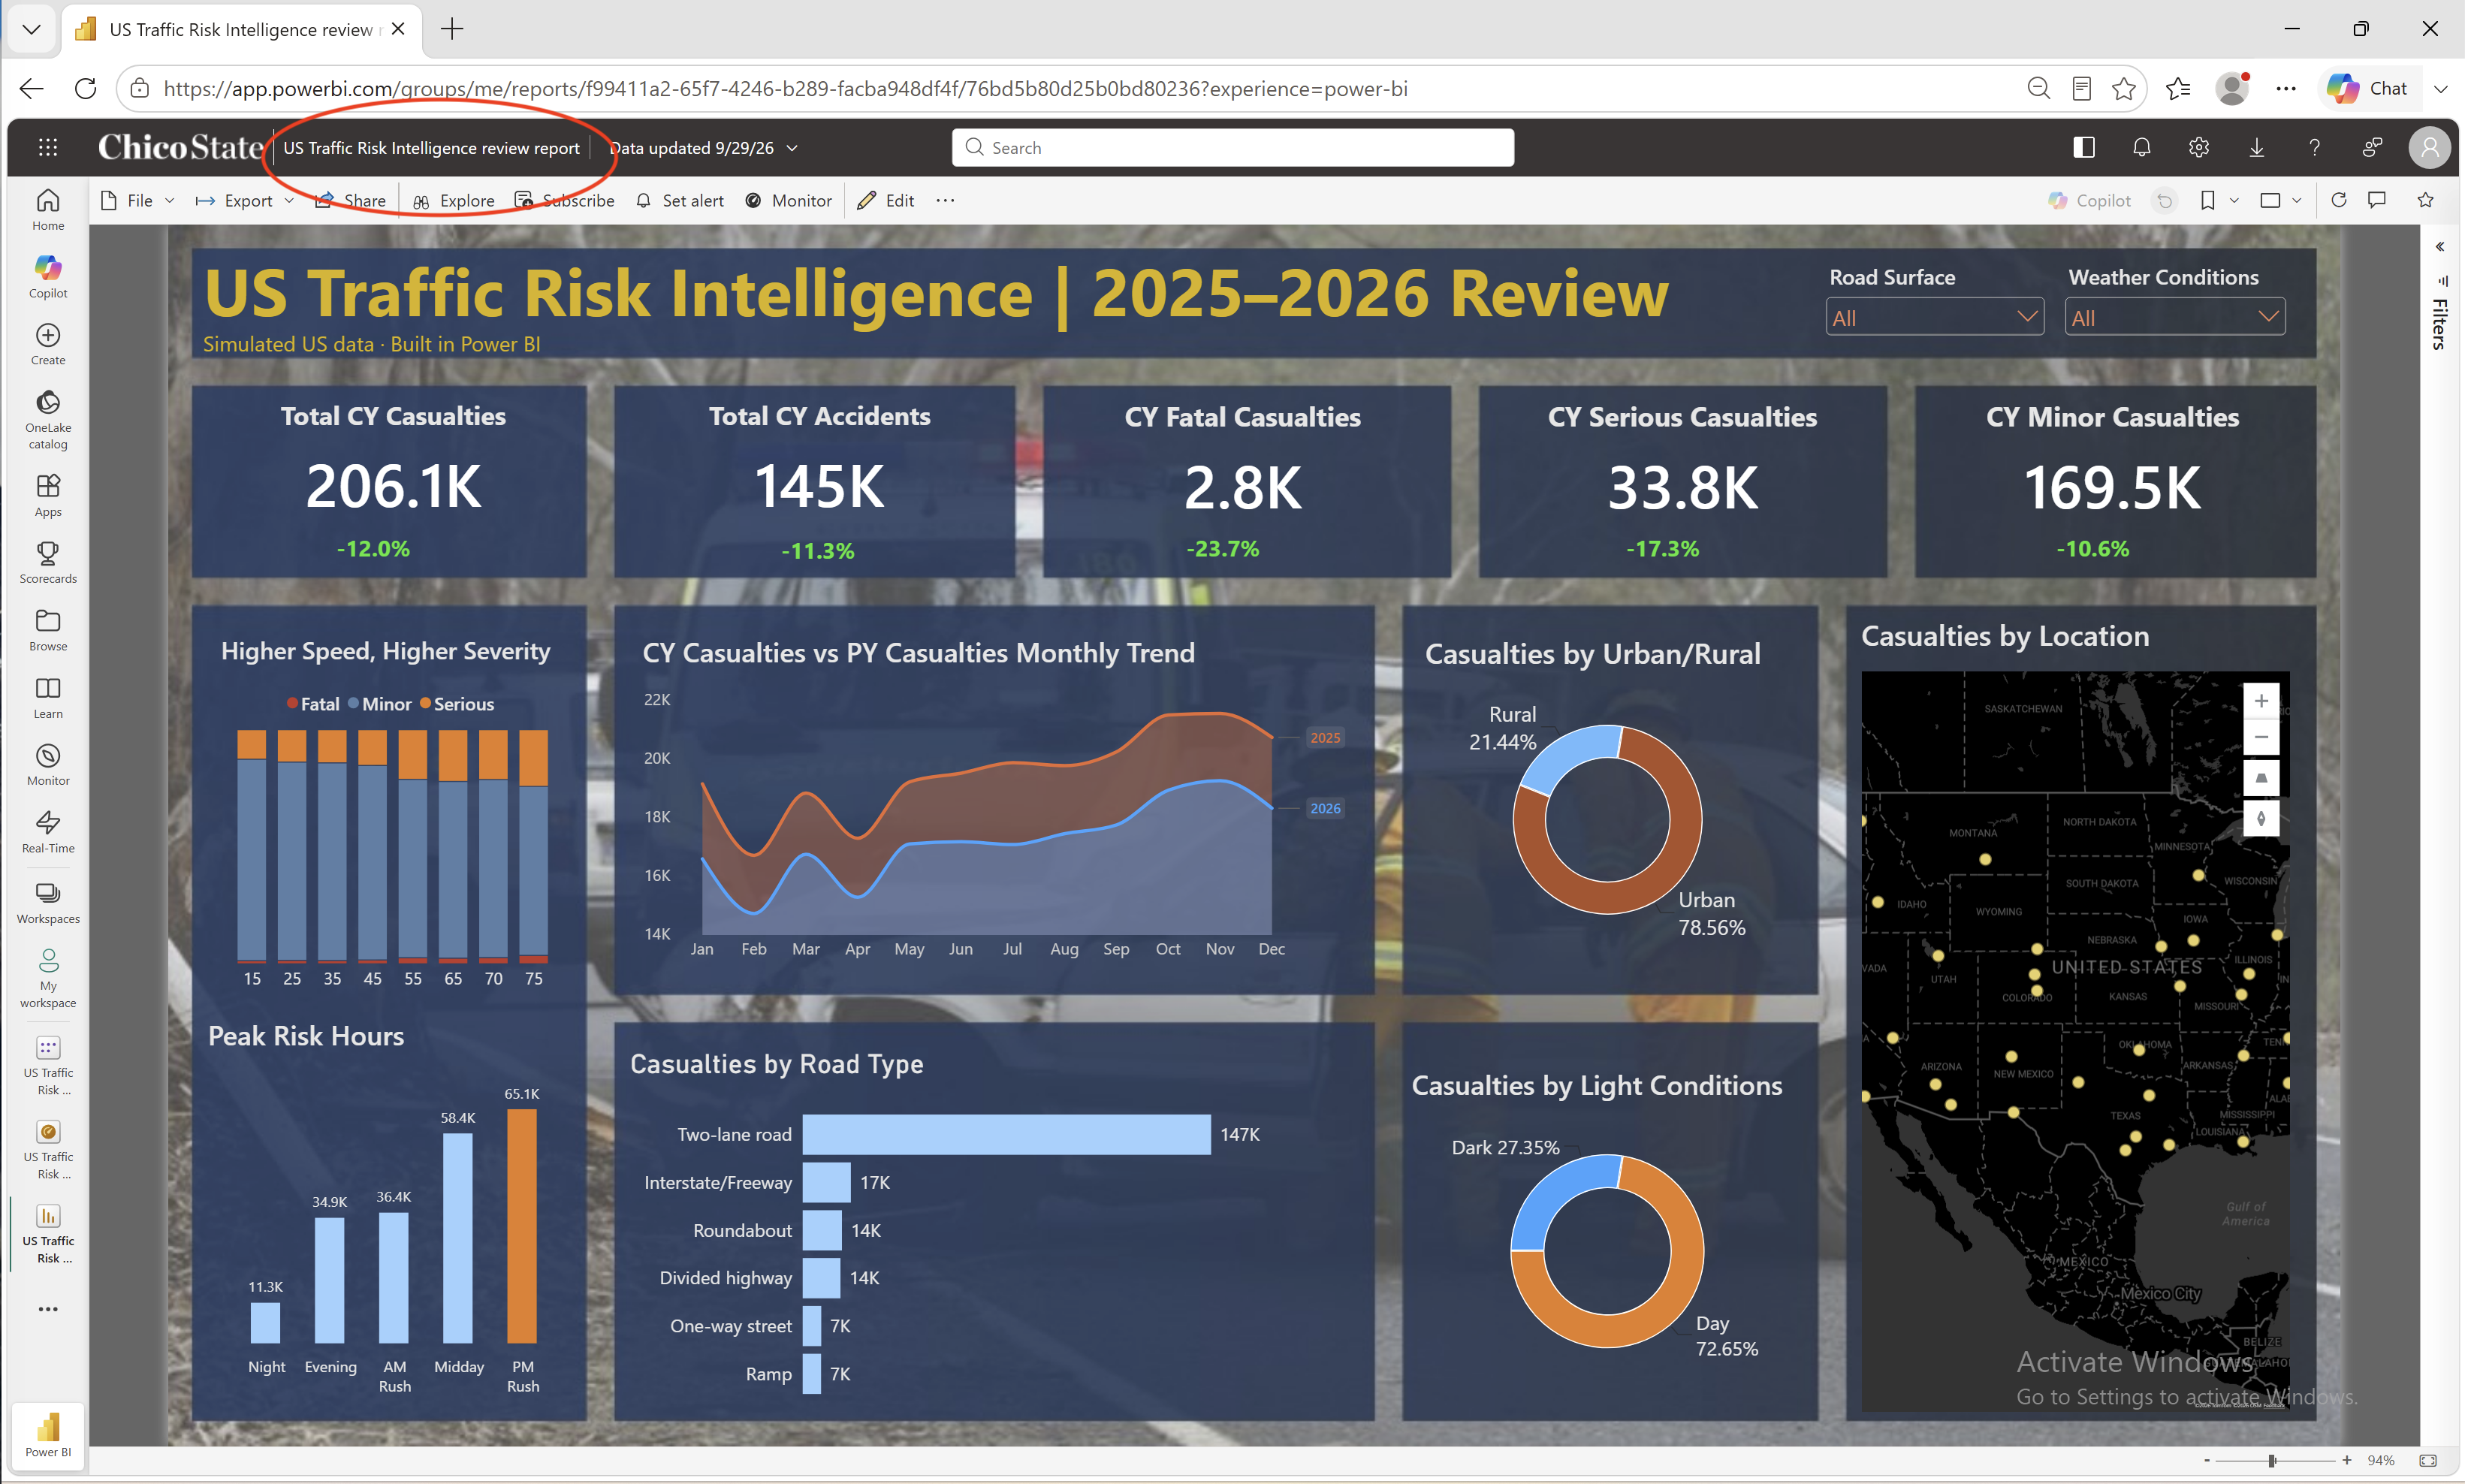

This screenshot's page, from the dashboard's own definition file:
{"tool":"powerbi","page":{"name":"Page 1","canvas":[1920,1080],"ordinal":0},"visuals":[{"type":"cardVisual","title":"Total CY Casualties","fields":{"Data":["Data.CY Casualties"]},"box":[41.5,152.7,315.3,104.5],"z":0,"group":"g1"},{"type":"group","id":"g1","title":"Group 1","box":[41.5,152.7,315.3,161],"z":0},{"type":"cardVisual","title":"Total CY Accidents","fields":{"Data":["Data.CY Accident Count"]},"box":[418.2,152.7,315.3,104.5],"z":0,"group":"g2"},{"type":"cardVisual","title":" CY Fatal Casualties","fields":{"Data":["Data.CY Casualties"]},"box":[792.6,153.3,315.3,104.5],"z":0,"group":"g3"},{"type":"cardVisual","title":" CY Serious Casualties","fields":{"Data":["Data.CY Casualties"]},"box":[1181.4,153.3,315.3,104.5],"z":0,"group":"g4"},{"type":"cardVisual","title":" CY Minor Casualties","fields":{"Data":["Data.CY Casualties"]},"box":[1561.5,153.3,315.3,104.5],"z":0,"group":"g5"},{"type":"group","id":"g2","title":"Group 1","box":[418.2,152.7,315.3,162.3],"z":1000},{"type":"cardVisual","fields":{"Data":["Data.YOY casualties"]},"box":[132.8,257.2,109.5,56.4],"z":1000,"group":"g1"},{"type":"cardVisual","fields":{"Data":["Data.YOY casualties"]},"box":[883.9,257.8,109.5,56.4],"z":1000,"group":"g3"},{"type":"cardVisual","fields":{"Data":["Data.YOY casualties"]},"box":[1272.7,257.8,109.5,56.4],"z":1000,"group":"g4"},{"type":"cardVisual","fields":{"Data":["Data.YOY casualties"]},"box":[1652.8,257.8,109.5,56.4],"z":1000,"group":"g5"},{"type":"cardVisual","fields":{"Data":["Data.YOY Accidents"]},"box":[525,258.7,110.8,56.3],"z":1000,"group":"g2"},{"type":"group","id":"g3","title":"Group 1","box":[792.6,153.3,315.3,159.8],"z":2000},{"type":"group","id":"g4","title":"Group 1","box":[1181.4,153.3,315.3,159.8],"z":3000},{"type":"group","id":"g5","title":"Group 1","box":[1561.5,153.3,315.3,159.8],"z":4000},{"type":"textbox","box":[30.9,18.3,1620.9,86],"z":5000},{"type":"areaChart","title":"CY Casualties vs PY Casualties Monthly Trend","fields":{"Category":["Calendar.Month"],"Series":["Calendar.Date.Variation.Date Hierarchy.Year"],"Y":["Sum(Data.Number_of_Casualties)"]},"box":[403.6,347.3,652.7,323.6],"z":7000},{"type":"donutChart","title":"Casualties by Urban/Rural","fields":{"Category":["Data.Urban_or_Rural_Area"],"Y":["Data.CY Casualties"]},"box":[1095.1,347.5,354.1,309.8],"z":8000},{"type":"donutChart","title":"Casualties by Light Conditions","fields":{"Category":["Data.Light_Conditions (groups)"],"Y":["Data.CY Casualties"]},"box":[1083.6,729.5,377,309.8],"z":9000},{"type":"barChart","title":"Casualties by Road Type","fields":{"Category":["Data.Road_Type"],"Y":["Data.CY Casualties"]},"box":[403.8,716.2,652.5,337.7],"z":10000},{"type":"azureMap","title":"Casualties by Location","fields":{"Category":["Data.Local_Authority_(District)"],"X":["Data.Longitude"],"Y":["Data.Latitude"]},"box":[1480.3,331.1,411.5,734.4],"z":11000},{"type":"slicer","fields":{"Values":["Data.Weather_Conditions (groups)"]},"box":[1672.1,32.8,204.9,72.1],"z":12000},{"type":"slicer","fields":{"Values":["Data.Road_Surface_Conditions (groups)"]},"box":[1460.7,32.8,203.3,75.4],"z":12001},{"type":"hundredPercentStackedColumnChart","title":"Higher Speed, Higher Severity","fields":{"Category":["Data.Speed_limit"],"Series":["Data.Accident_Severity"],"Y":["Data.CY Casualties"]},"box":[30.5,347.5,335.6,350.8],"z":12002},{"type":"clusteredColumnChart","title":"Peak Risk Hours","fields":{"Category":["Data.Time Band"],"Y":["Data.CY Casualties"]},"box":[18.6,686.4,347.5,367.8],"z":12003},{"type":"textbox","box":[30.9,92.8,306.6,30.9],"z":12004}]}

Visuals, with their boxes on the page's 1920x1080 design canvas (x1, y1, x2, y2). These are canvas units, not pixel positions in the 2465x1484 screenshot, which may show the page scaled, cropped or inside an application window:
"Total CY Casualties" cardVisual: x1=42, y1=153, x2=357, y2=257
"Group 1" group: x1=42, y1=153, x2=357, y2=314
"Total CY Accidents" cardVisual: x1=418, y1=153, x2=734, y2=257
" CY Fatal Casualties" cardVisual: x1=793, y1=153, x2=1108, y2=258
" CY Serious Casualties" cardVisual: x1=1181, y1=153, x2=1497, y2=258
" CY Minor Casualties" cardVisual: x1=1562, y1=153, x2=1877, y2=258
"Group 1" group: x1=418, y1=153, x2=734, y2=315
cardVisual - Data.YOY casualties: x1=133, y1=257, x2=242, y2=314
cardVisual - Data.YOY casualties: x1=884, y1=258, x2=993, y2=314
cardVisual - Data.YOY casualties: x1=1273, y1=258, x2=1382, y2=314
cardVisual - Data.YOY casualties: x1=1653, y1=258, x2=1762, y2=314
cardVisual - Data.YOY Accidents: x1=525, y1=259, x2=636, y2=315
"Group 1" group: x1=793, y1=153, x2=1108, y2=313
"Group 1" group: x1=1181, y1=153, x2=1497, y2=313
"Group 1" group: x1=1562, y1=153, x2=1877, y2=313
textbox: x1=31, y1=18, x2=1652, y2=104
"CY Casualties vs PY Casualties Monthly Trend" areaChart: x1=404, y1=347, x2=1056, y2=671
"Casualties by Urban/Rural" donutChart: x1=1095, y1=348, x2=1449, y2=657
"Casualties by Light Conditions" donutChart: x1=1084, y1=730, x2=1461, y2=1039
"Casualties by Road Type" barChart: x1=404, y1=716, x2=1056, y2=1054
"Casualties by Location" azureMap: x1=1480, y1=331, x2=1892, y2=1066
slicer - Data.Weather_Conditions (groups): x1=1672, y1=33, x2=1877, y2=105
slicer - Data.Road_Surface_Conditions (groups): x1=1461, y1=33, x2=1664, y2=108
"Higher Speed, Higher Severity" hundredPercentStackedColumnChart: x1=30, y1=348, x2=366, y2=698
"Peak Risk Hours" clusteredColumnChart: x1=19, y1=686, x2=366, y2=1054
textbox: x1=31, y1=93, x2=338, y2=124
